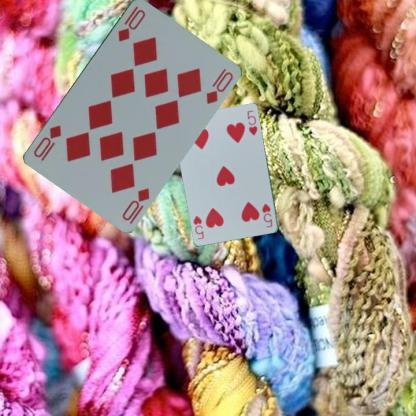10d: (115, 3, 147, 43), (119, 185, 151, 222)
5h: (259, 201, 274, 229)
